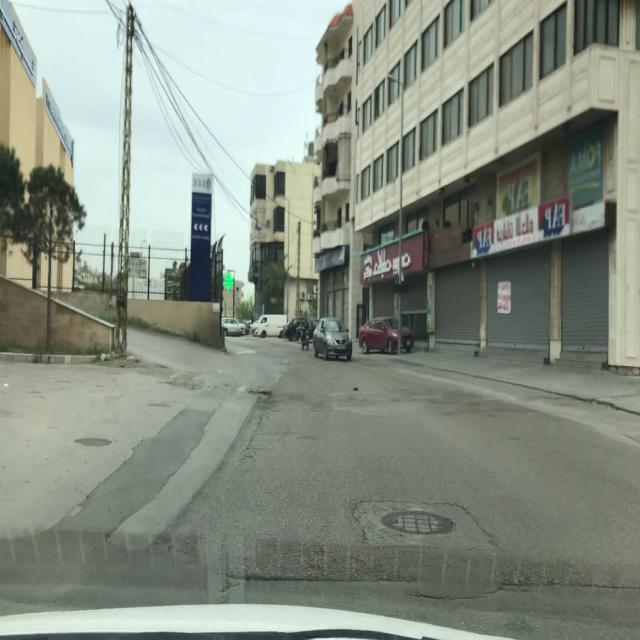pothole: (248, 390, 273, 399)
